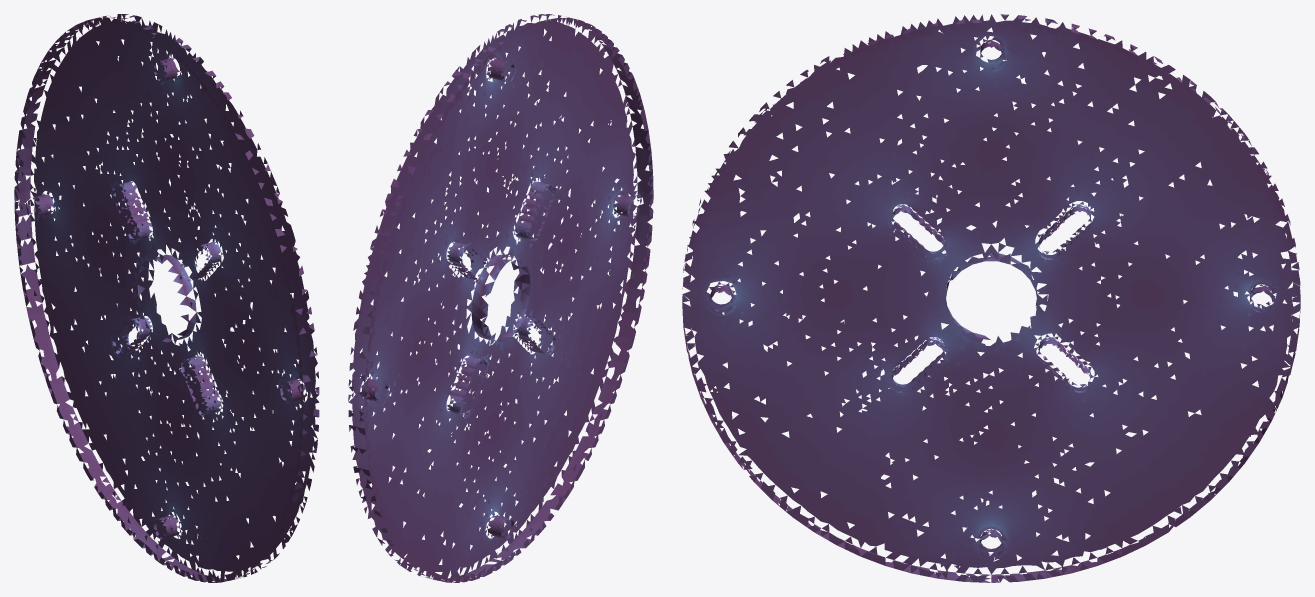
The picture shows the model from 3 angles, left to right: view 1: azimuth 30°, elevation 25°; view 2: azimuth 150°, elevation 25°; view 3: azimuth 270°, elevation 25°; orthographic projection. The views are drawn at different scales.
Parts seen in each view (by area): view 1: geometry_0; view 2: geometry_0; view 3: geometry_0.
Part boxes in pixels (<box>): geometry_0: <box>14,14,319,582</box>; geometry_0: <box>348,14,653,582</box>; geometry_0: <box>682,14,1300,582</box>.
Size of the model in its own units: 3 by 94 by 94.
